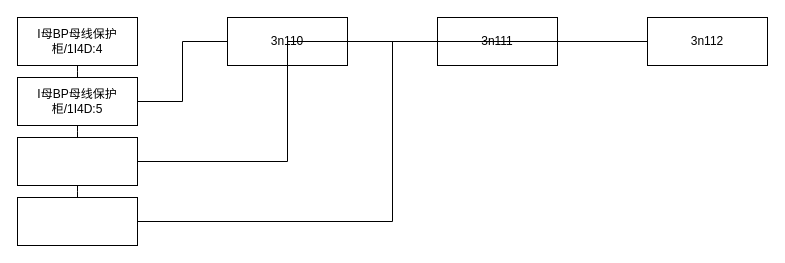
This 785x263 diagram has some shape labels left out. Here are the shapes that lost their labels. From the top down, the box of each, then its label:
(16, 136, 138, 186): I母BP母线保护柜/1I4D:6
(16, 196, 138, 246): I母BP母线保护柜/1I4D:7
